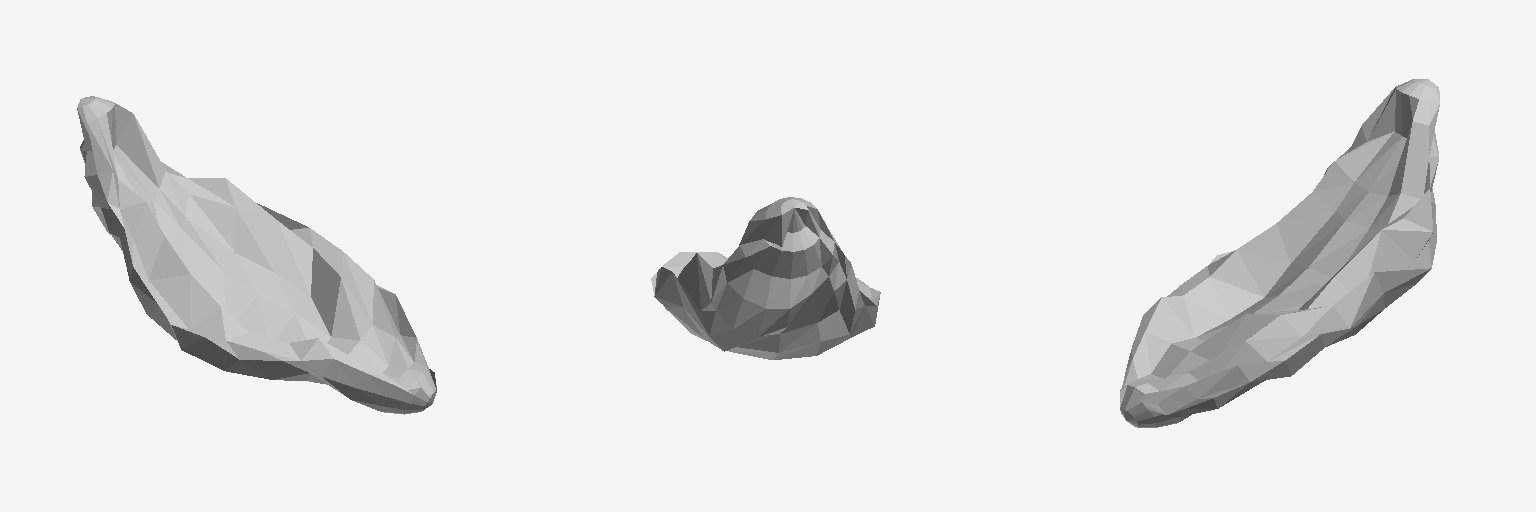
Rendered from flowerPetal.obj.
The picture shows the model from 3 angles: view 1: azimuth 30°, elevation 25°; view 2: azimuth 150°, elevation 25°; view 3: azimuth 270°, elevation 25°; orthographic projection.
Parts seen in each view (by area): view 1: pSphere1; view 2: pSphere1; view 3: pSphere1.
Part boxes in pixels (left/top/right/bottom): pSphere1: left=77, top=96, right=436, bottom=414; pSphere1: left=651, top=197, right=880, bottom=359; pSphere1: left=1120, top=79, right=1439, bottom=427.
Size of the model in its own units: 2.29 by 2.39 by 2.68.